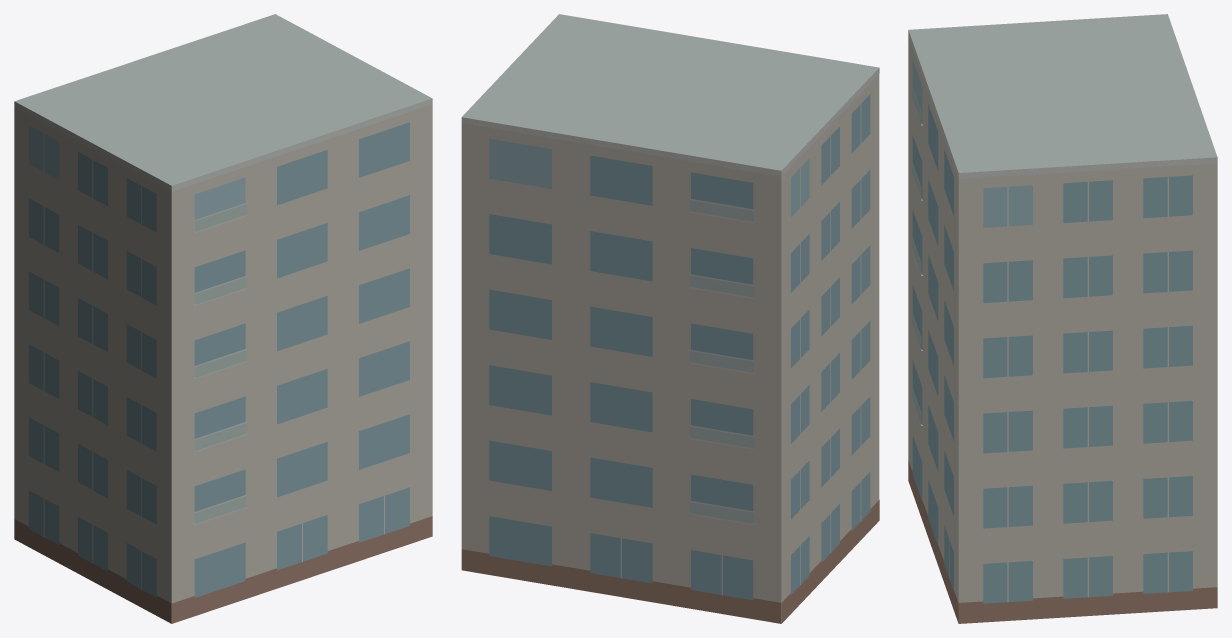
Rendered from survey-upis-32574055.glb.
3 views of the same model, side by side, from view 1: azimuth 30°, elevation 25°; view 2: azimuth 150°, elevation 25°; view 3: azimuth 270°, elevation 25° (orthographic). The views are drawn at different scales.
Visible parts, largest first — view 1: survey-upis-32574055.tmp; view 2: survey-upis-32574055.tmp; view 3: survey-upis-32574055.tmp.
Boxes of the visible parts, left/top/right/bottom form: survey-upis-32574055.tmp: left=14, top=14, right=432, bottom=623; survey-upis-32574055.tmp: left=461, top=14, right=879, bottom=623; survey-upis-32574055.tmp: left=908, top=14, right=1217, bottom=623.
Bounding box in the file's own units: 14 × 18.5 × 11.51.
